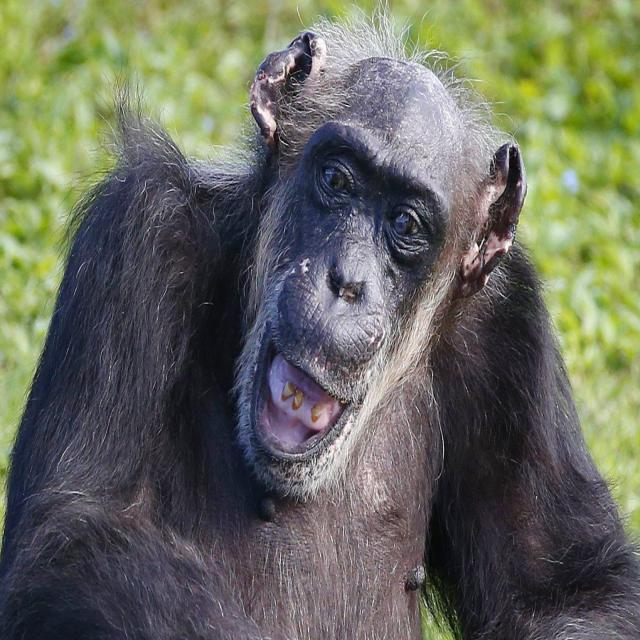chimpanzee: (0, 17, 640, 639)
